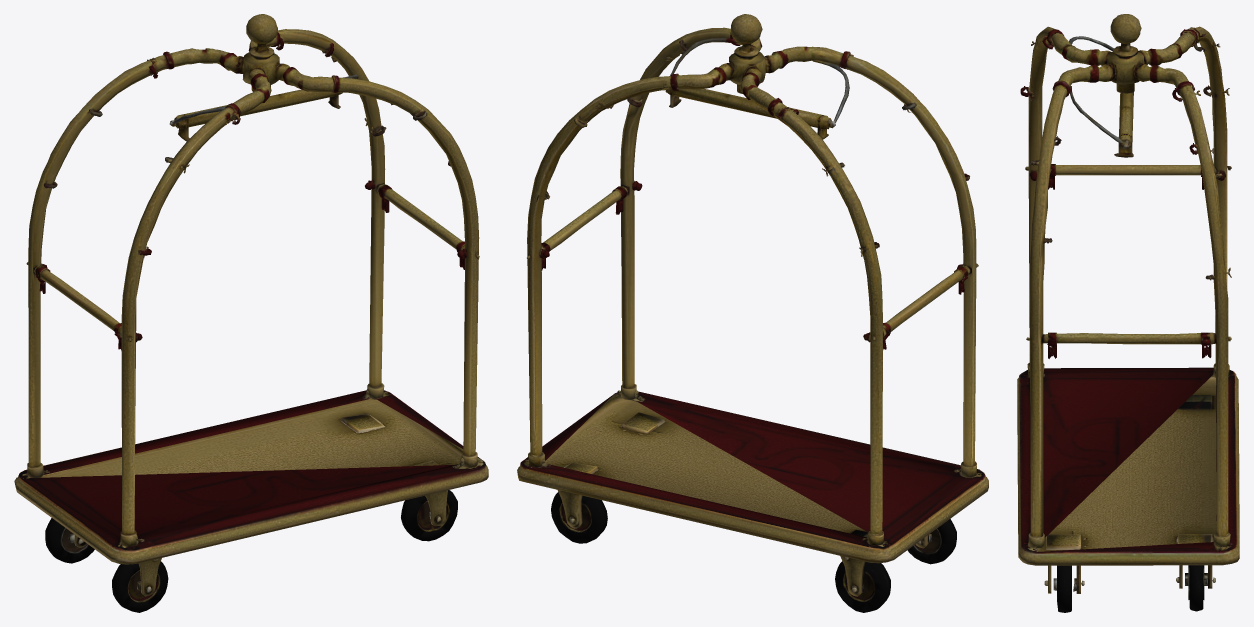
The model's file is theme-luggage-trolley-v05.glb.
The picture shows the model from 3 angles, left to right: view 1: azimuth 30°, elevation 25°; view 2: azimuth 150°, elevation 25°; view 3: azimuth 270°, elevation 25°; orthographic projection.
Visible parts, largest first — view 1: tripo_node_79062517-3b35-424d-8d56-d3dbc19fa77d; view 2: tripo_node_79062517-3b35-424d-8d56-d3dbc19fa77d; view 3: tripo_node_79062517-3b35-424d-8d56-d3dbc19fa77d.
Part boxes in pixels (x1,y1,x2,y2): tripo_node_79062517-3b35-424d-8d56-d3dbc19fa77d: (14,14,488,612); tripo_node_79062517-3b35-424d-8d56-d3dbc19fa77d: (517,14,988,612); tripo_node_79062517-3b35-424d-8d56-d3dbc19fa77d: (1017,14,1239,612).
Size of the model in its own units: 1.29 by 1.75 by 0.6678.
1 material, 1 textured.
